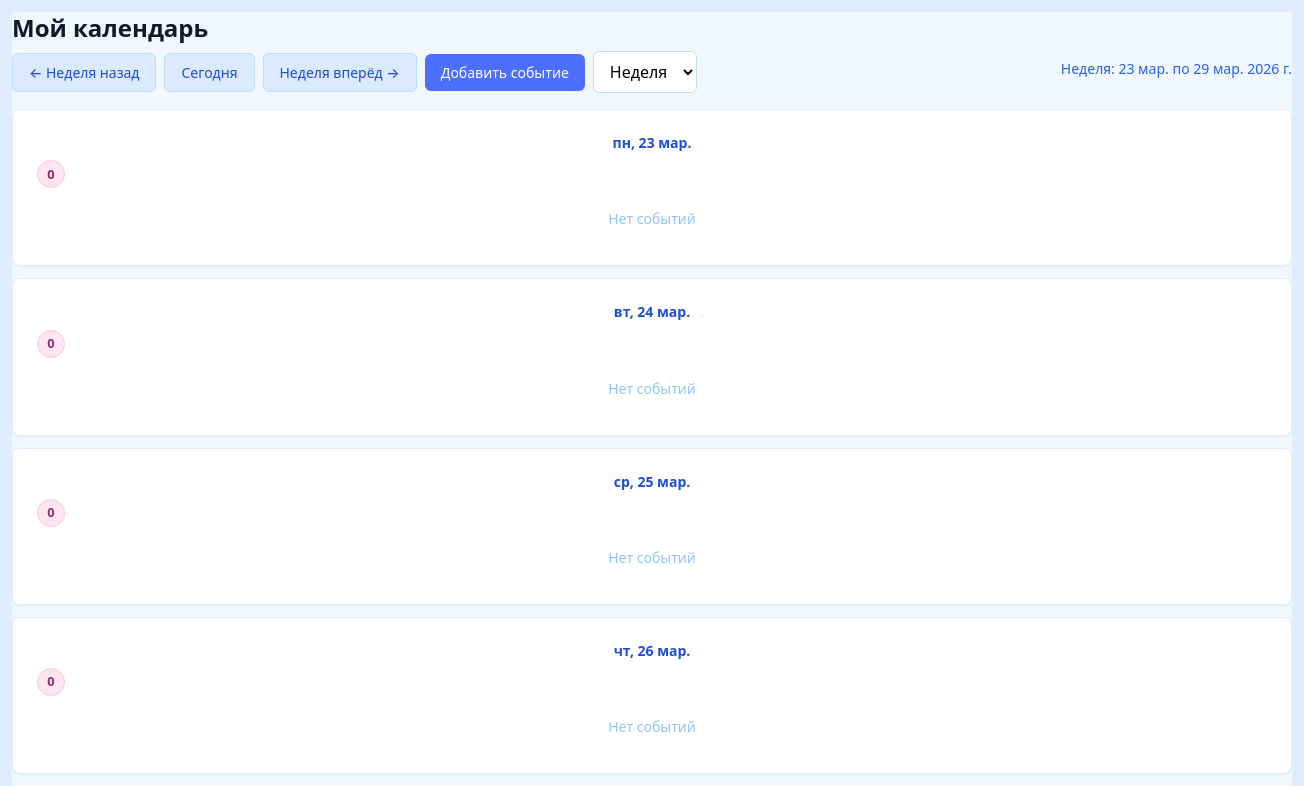
Test: MyCalendarPage › переключает вид календаря на день
Expected: the heading "Мой календарь" is shown, [12,11,208,44]
Select "День" in the dropdown named "Вид календаря" at (645, 72), box [593,51,697,93]
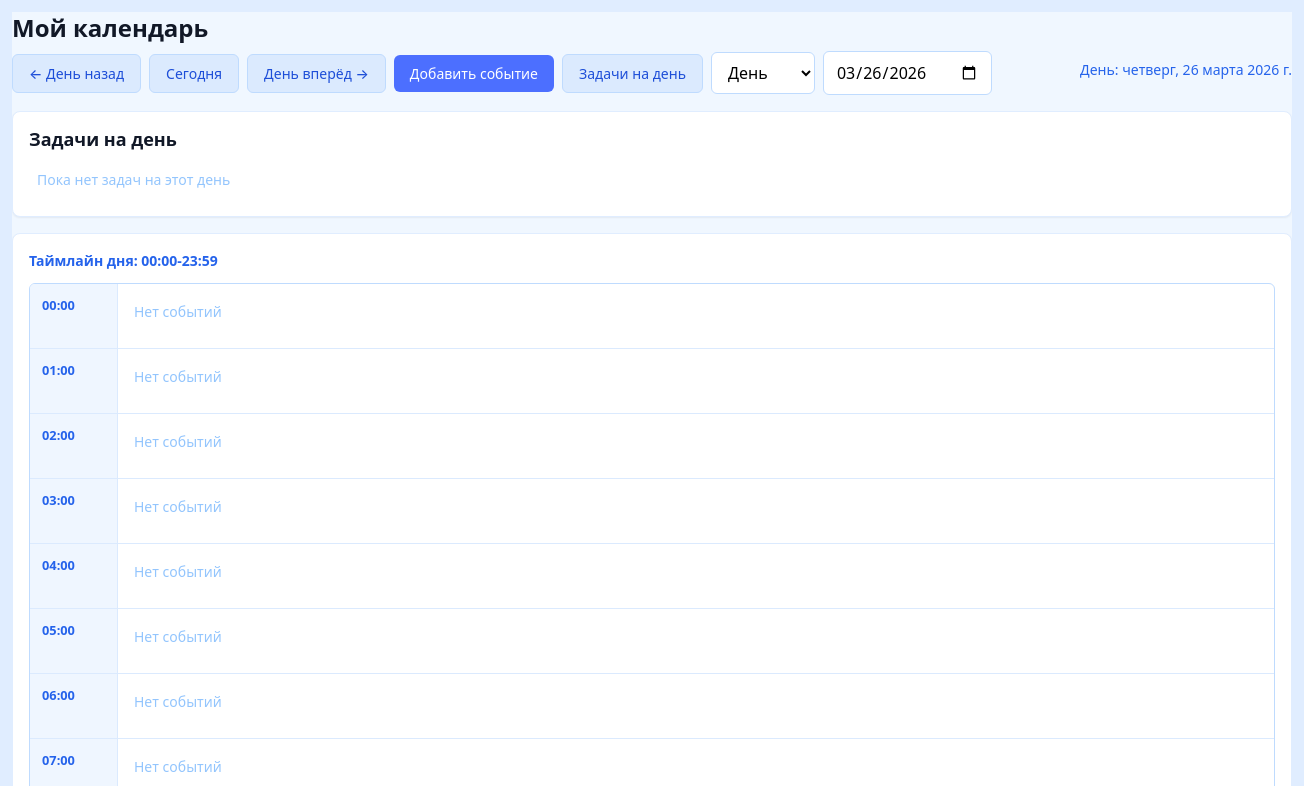
Result: the text "Нет событий" is shown 24 times
Result: the text "Таймлайн дня: 00:00-23:59" is shown at [29,251,218,270]
Result: the date field named "Дата дня" is shown at [823,51,992,95]
